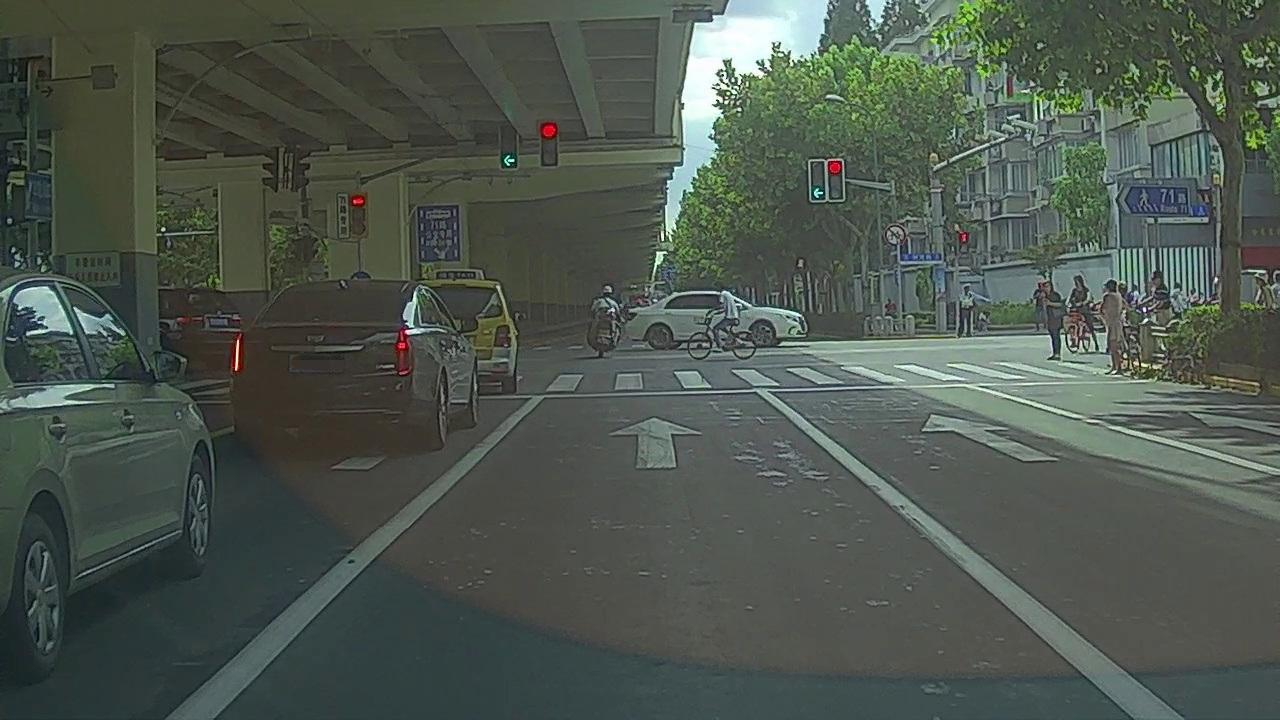traffic_light: (499, 125, 519, 170), (826, 159, 845, 202), (541, 122, 559, 166), (812, 160, 826, 202)
